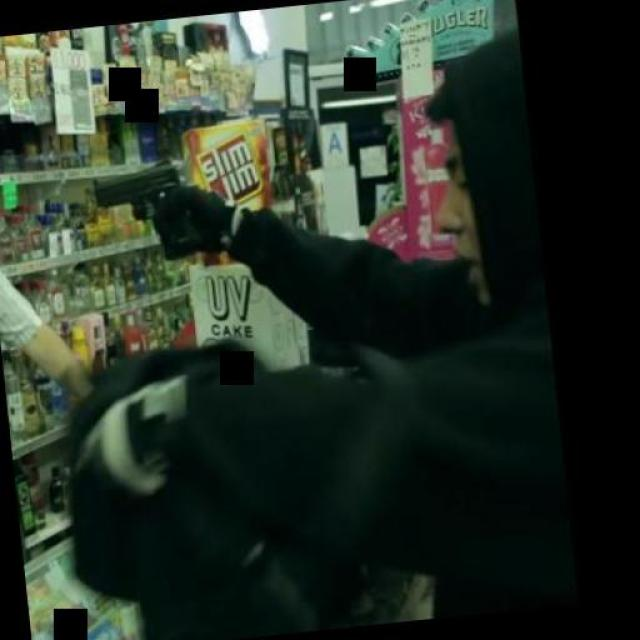gun: (82, 152, 220, 266)
